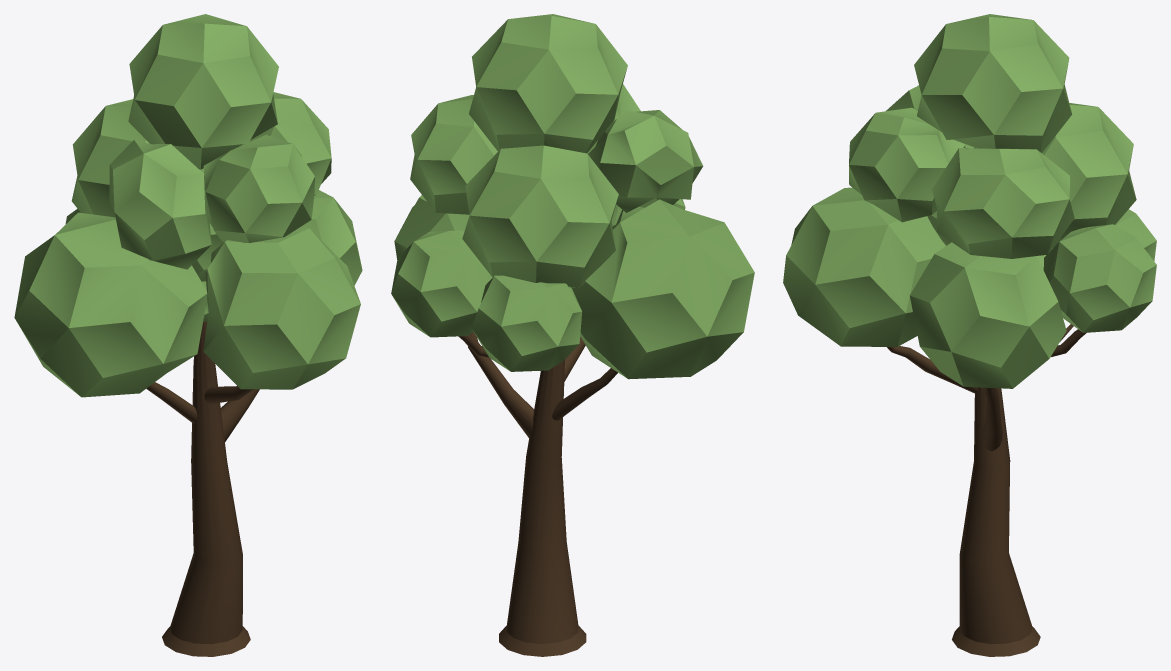
File: Tree04.fbx
3 views of the same model, side by side, from view 1: azimuth 30°, elevation 25°; view 2: azimuth 150°, elevation 25°; view 3: azimuth 270°, elevation 25° (orthographic).
Visible parts, largest first — view 1: pPlatonic33, pCylinder19; view 2: pPlatonic33, pCylinder19; view 3: pPlatonic33, pCylinder19.
Part boxes in pixels (x1,y1,x2,y2): pPlatonic33: [14, 14, 362, 397]; pCylinder19: [146, 322, 259, 656]; pPlatonic33: [391, 14, 754, 379]; pCylinder19: [458, 332, 617, 656]; pPlatonic33: [783, 14, 1156, 388]; pCylinder19: [887, 324, 1086, 656].
Size of the model in its own units: 1.71 by 3.15 by 1.73.
